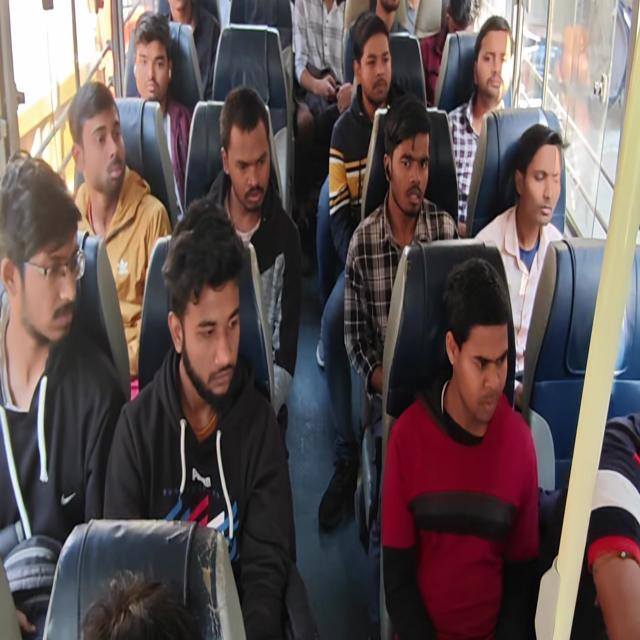person: (0, 163, 81, 374), (169, 245, 238, 378), (450, 279, 510, 422), (222, 100, 270, 214), (73, 81, 123, 190), (472, 24, 524, 113), (522, 137, 570, 229), (389, 115, 429, 216), (136, 24, 165, 101), (440, 0, 478, 45), (364, 30, 388, 99), (369, 0, 403, 24), (163, 0, 197, 23)
